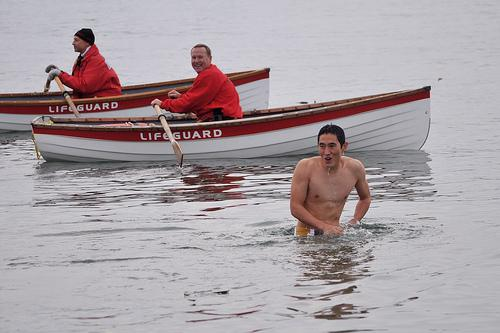human: (291, 124, 372, 236)
